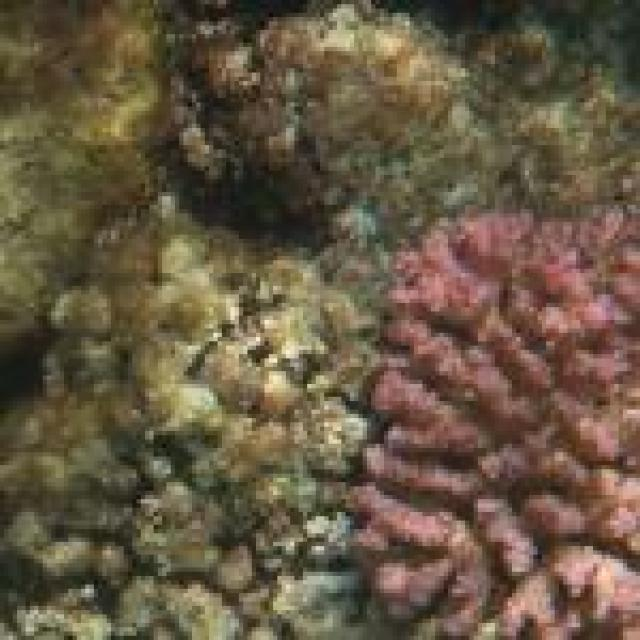Healthy Coral: (369, 215, 640, 640)
